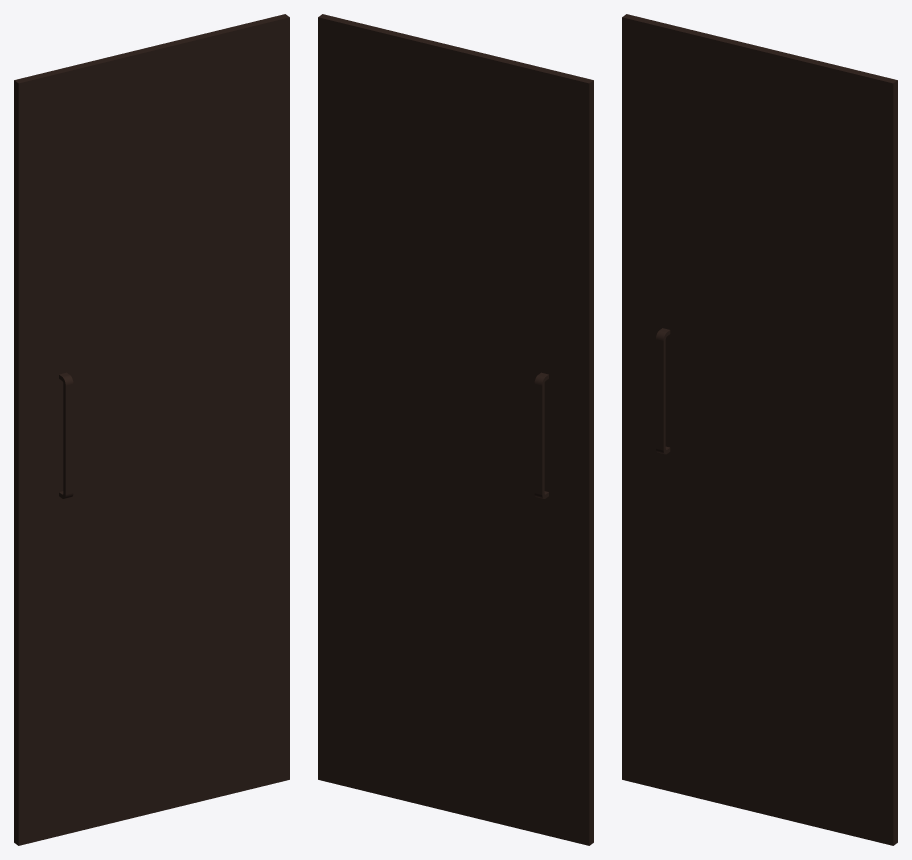
File: 門2 推拉門 移動部分.gltf
3 views of the same model, side by side, from view 1: azimuth 30°, elevation 25°; view 2: azimuth 150°, elevation 25°; view 3: azimuth 330°, elevation 25° (orthographic).
Parts seen in each view (by area): view 1: root; view 2: root; view 3: root.
Part boxes in pixels (x1,y1,x2,y2): root: [14, 14, 289, 845]; root: [318, 14, 593, 845]; root: [622, 14, 897, 845].
Bounding box in the file's own units: 0.7 × 1.88 × 0.08.
